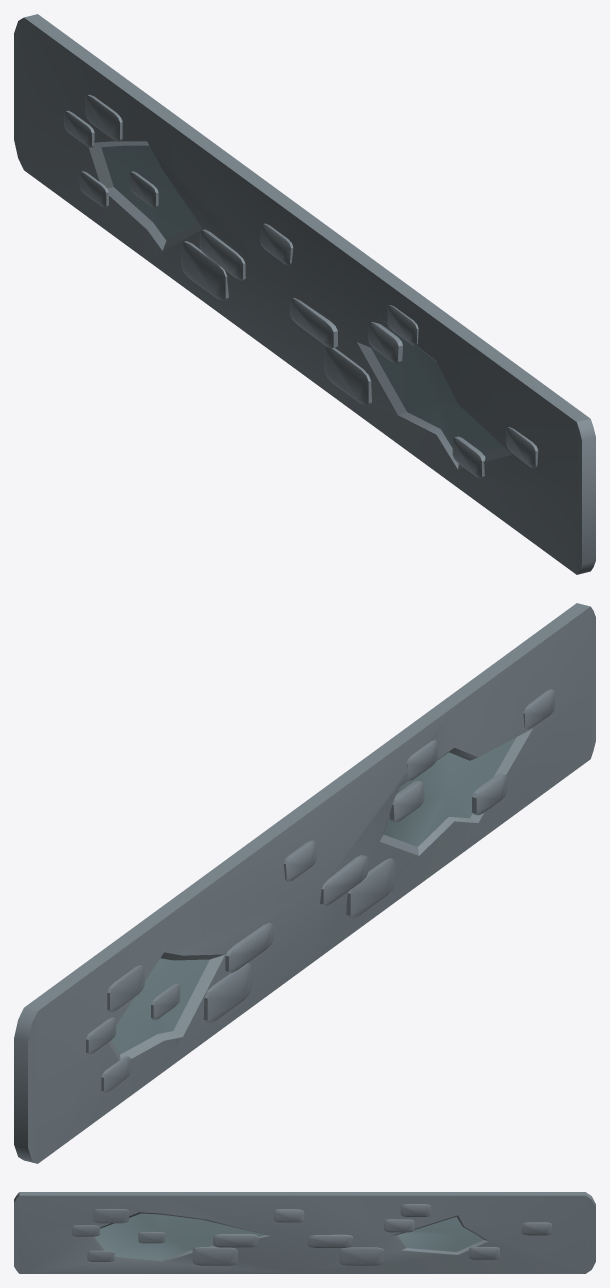
The picture shows the model from 3 angles, top to bottom: view 1: azimuth 30°, elevation 25°; view 2: azimuth 150°, elevation 25°; view 3: azimuth 270°, elevation 25°; orthographic projection. The views are drawn at different scales.
Parts seen in each view (by area): view 1: Cube.023; view 2: Cube.023; view 3: Cube.023.
Boxes of the visible parts, x1,y1,x2,y2 form: Cube.023: (14,14,595,574); Cube.023: (14,603,595,1163); Cube.023: (14,1192,595,1273).
Bounding box in the file's own units: 57.86 × 231 × 1560.
